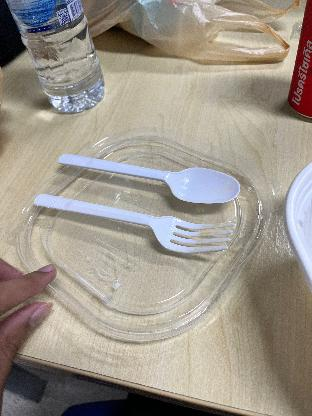Others: (25, 177, 236, 254), (53, 145, 246, 211)
